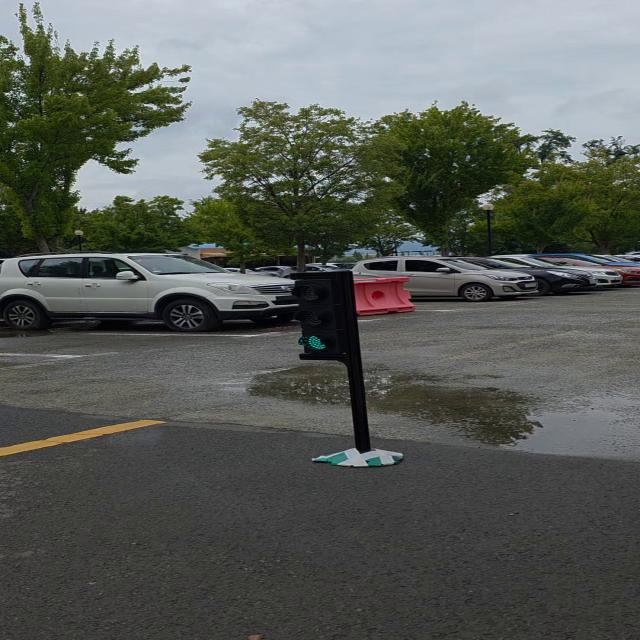green: (289, 269, 369, 364)
